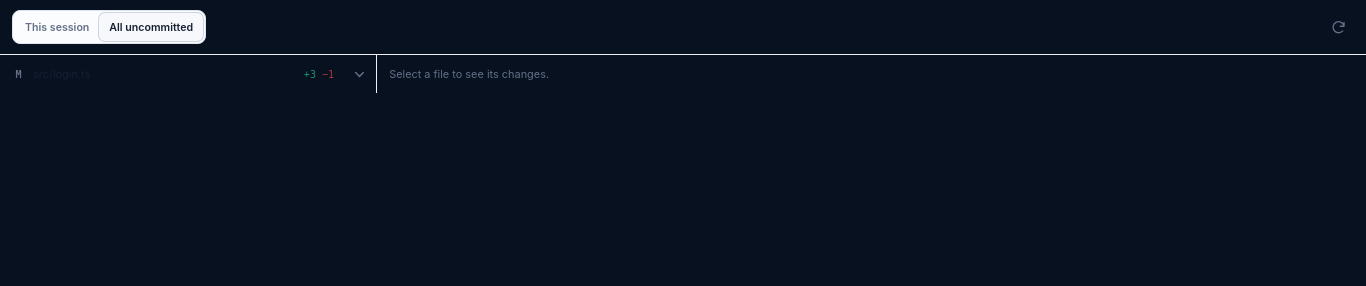
Test: ChangesView › offers no review actions in the uncommitted view
The width and height of the screenshot is (1366, 286).
Click the button named "File actions" at (359, 74), box [346, 61, 372, 87]
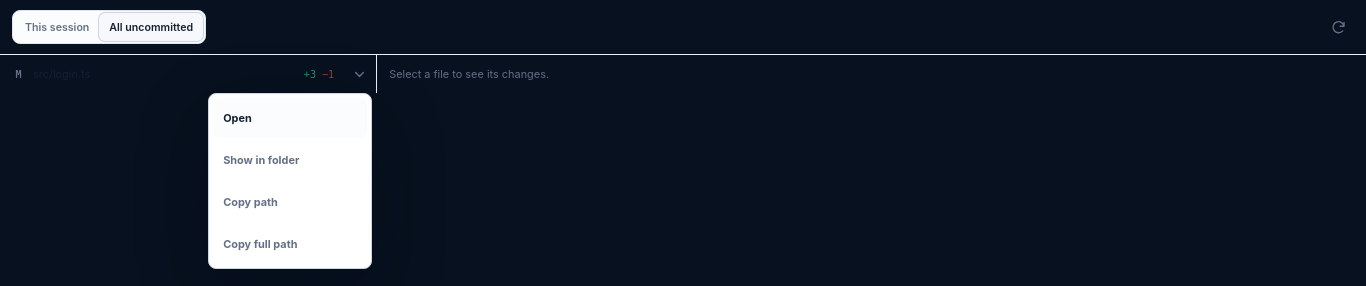
Now the menu item "Open" is shown, box [213, 98, 367, 138]
